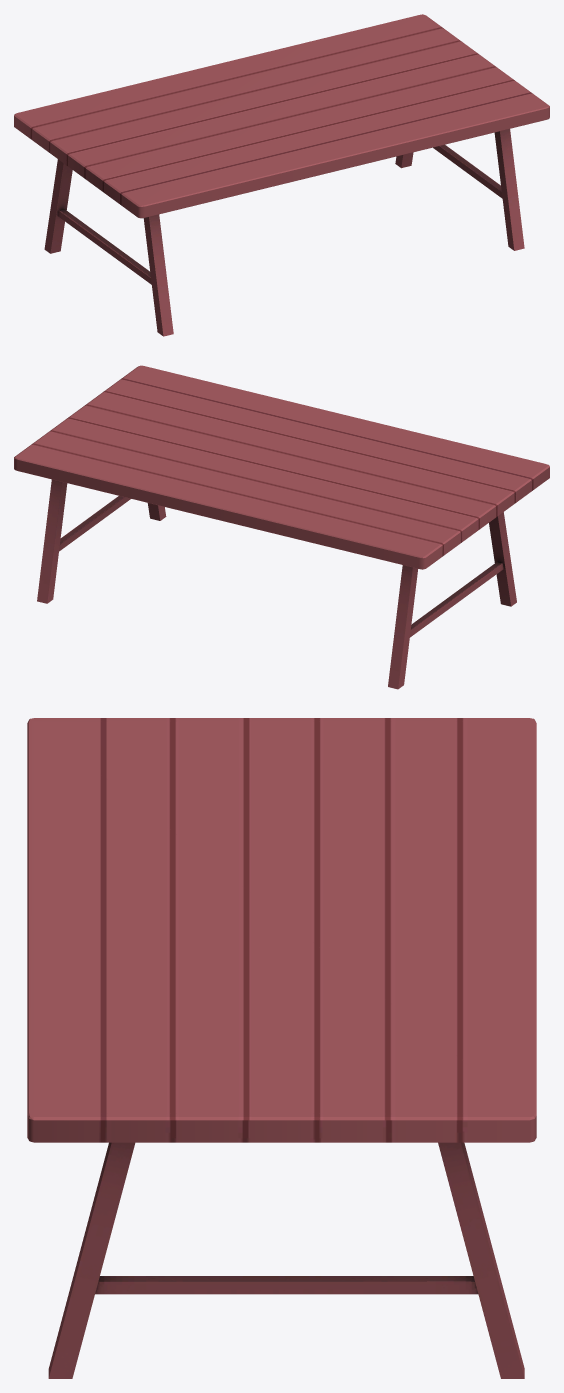
Rendered from kitchen_table.glb.
The picture shows the model from 3 angles, top to bottom: view 1: azimuth 30°, elevation 25°; view 2: azimuth 150°, elevation 25°; view 3: azimuth 270°, elevation 25°; orthographic projection. The views are drawn at different scales.
Visible parts, largest first — view 1: fc_k_table.smd; view 2: fc_k_table.smd; view 3: fc_k_table.smd.
Part boxes in pixels (x1,y1,x2,y2): fc_k_table.smd: (14,14,549,336); fc_k_table.smd: (14,365,549,689); fc_k_table.smd: (27,718,536,1378).
Size of the model in its own units: 2.2 by 0.7182 by 1.18.
1 material, 1 textured.
